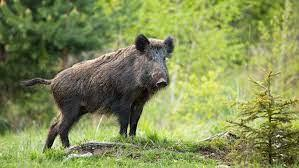wildboar: (16, 32, 177, 153)
